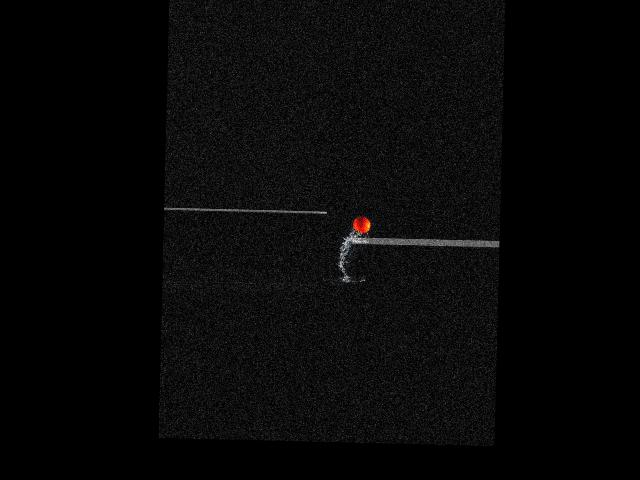tomato: (352, 216, 371, 233)
